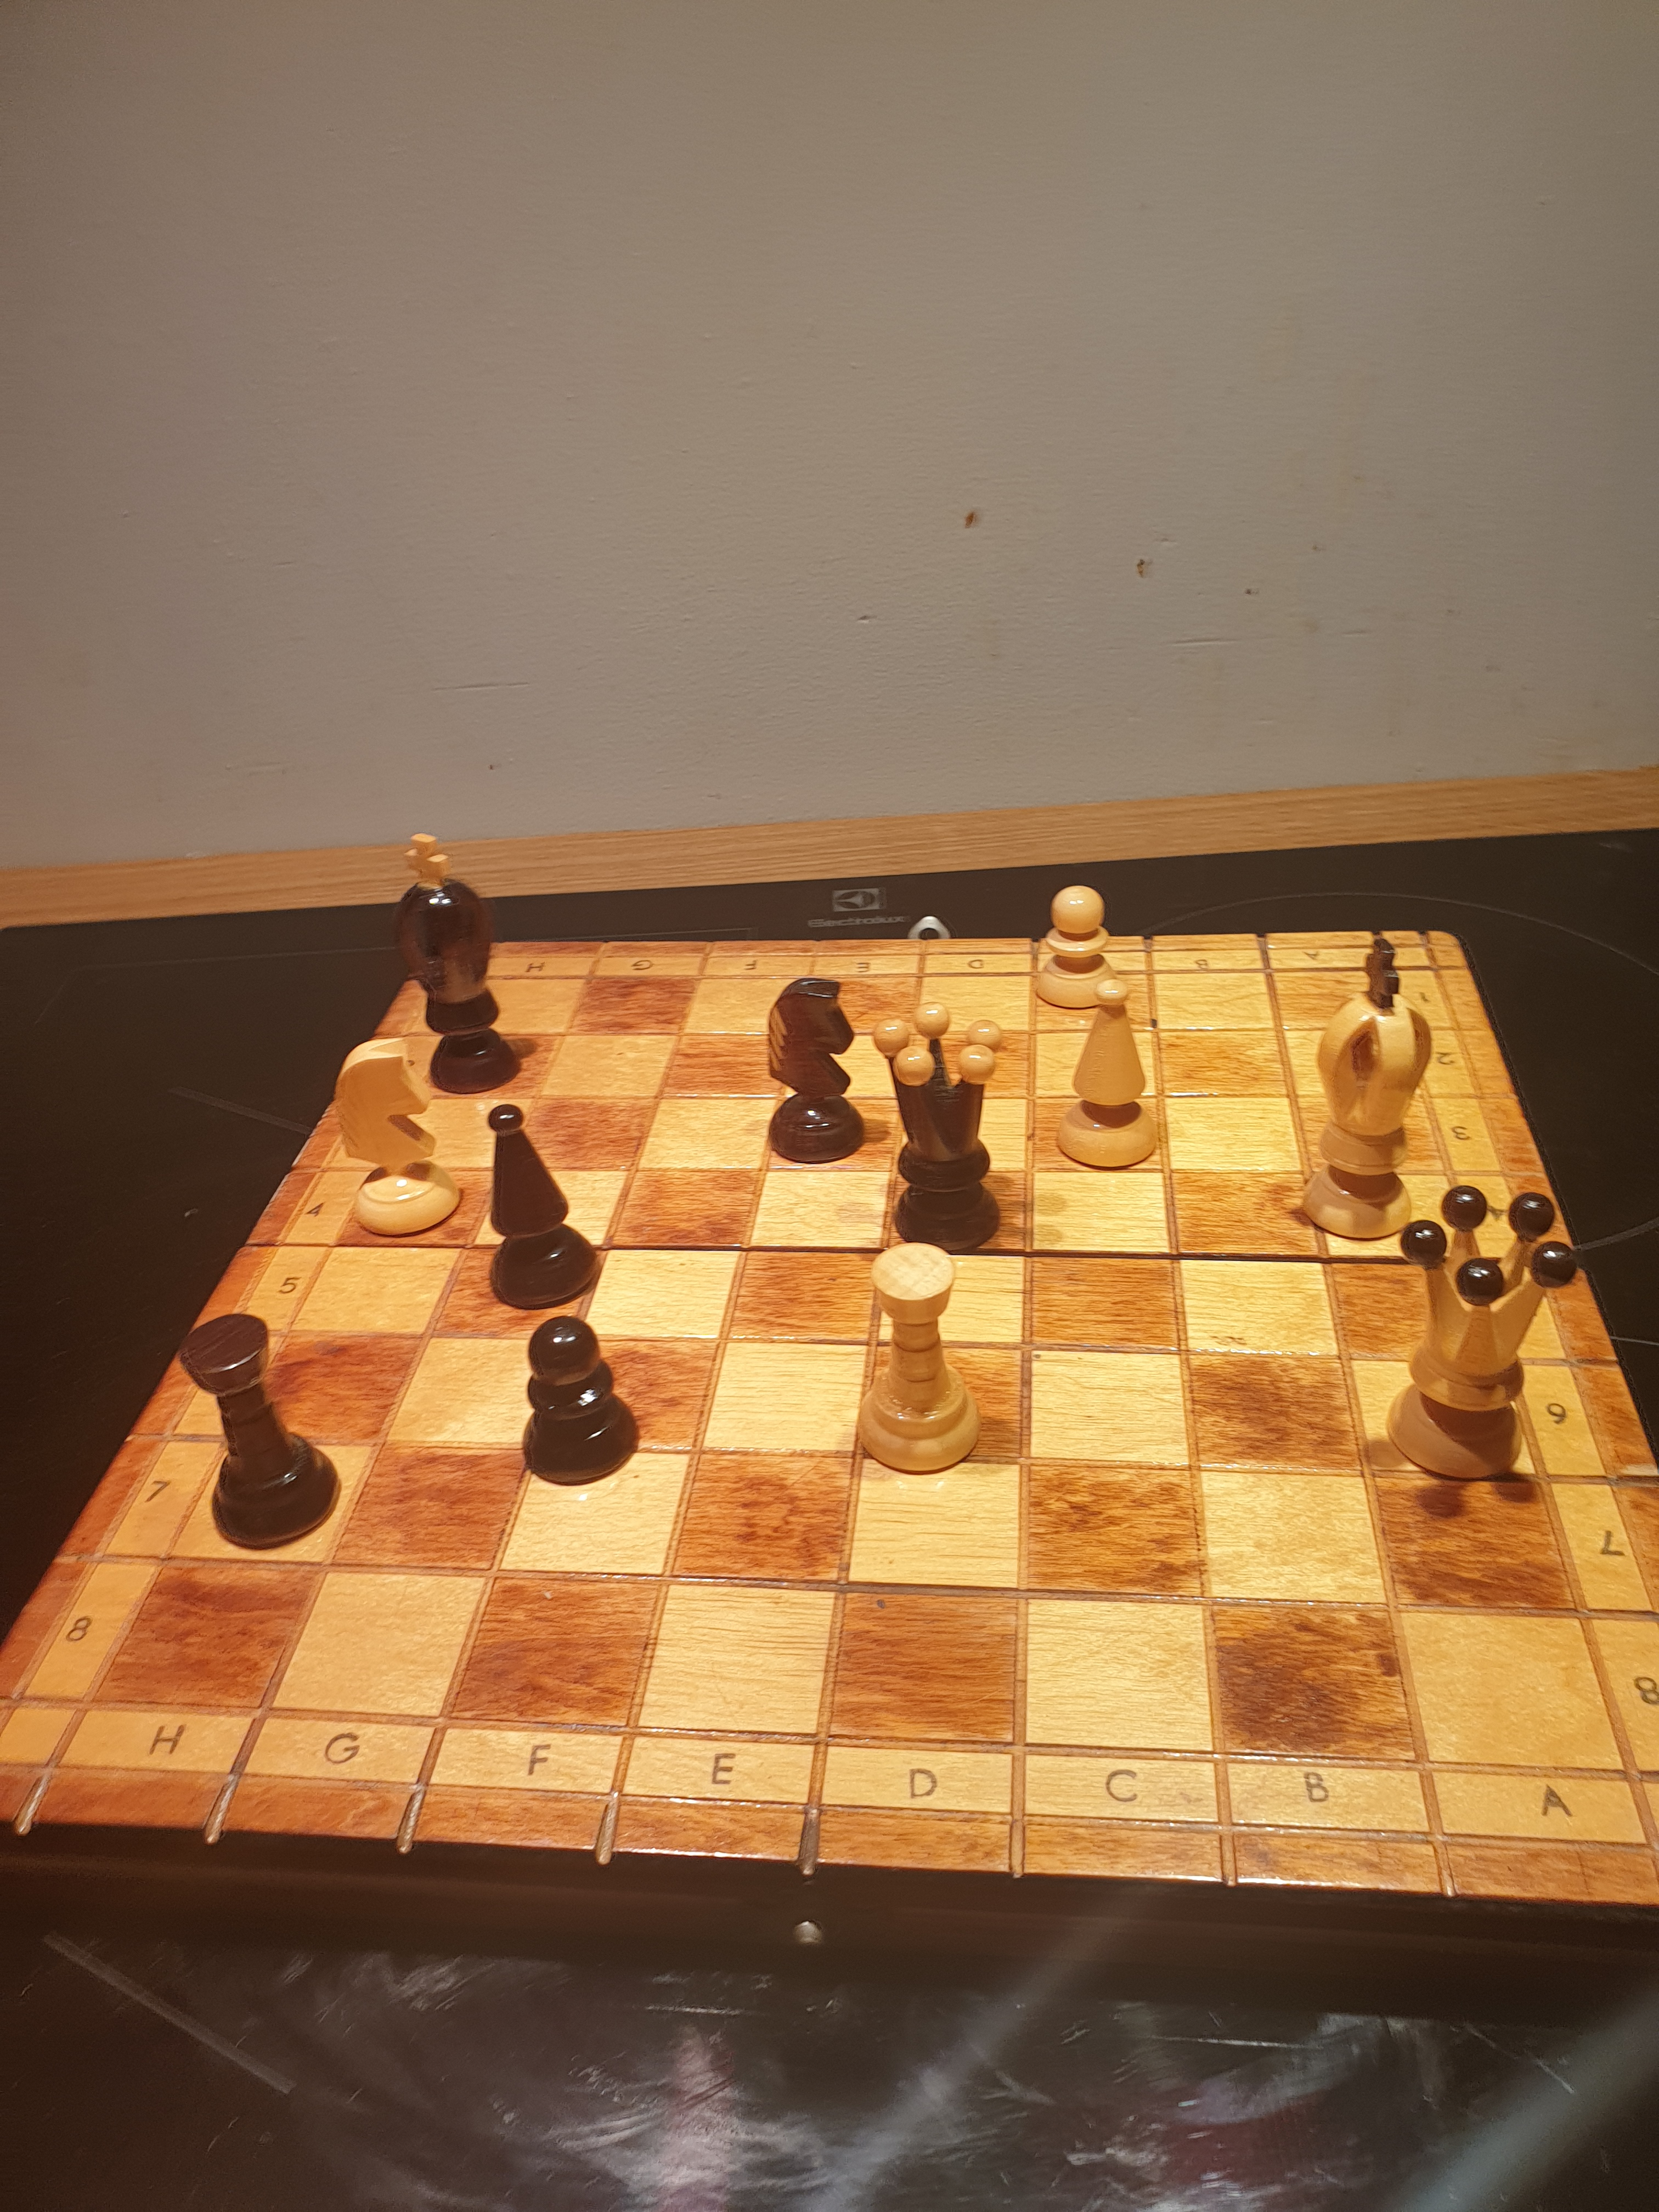bbishop: (481, 1082, 610, 1329)
bking: (378, 817, 538, 1122)
bknight: (758, 968, 875, 1174)
bpawn: (500, 1298, 666, 1512)
bqueen: (859, 991, 1021, 1263)
brook: (166, 1303, 356, 1554)
wbishop: (1039, 967, 1178, 1191)
wking: (1286, 925, 1434, 1249)
wknight: (329, 1024, 467, 1242)
wpawn: (1023, 873, 1133, 1021)
wqueen: (1378, 1176, 1588, 1508)
wrook: (845, 1238, 992, 1480)
